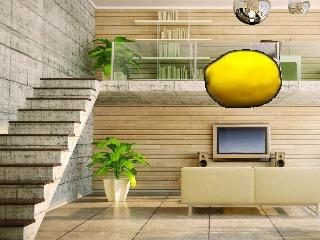lemon: (206, 50, 280, 107)
